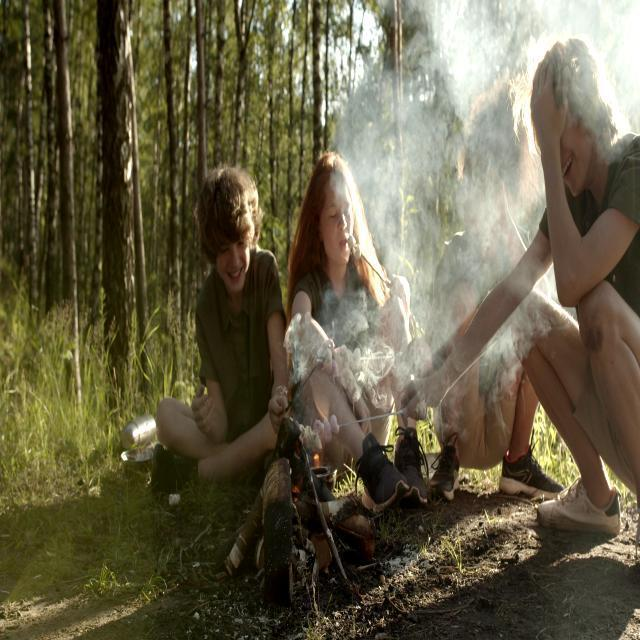Smoke: (338, 15, 588, 487)
